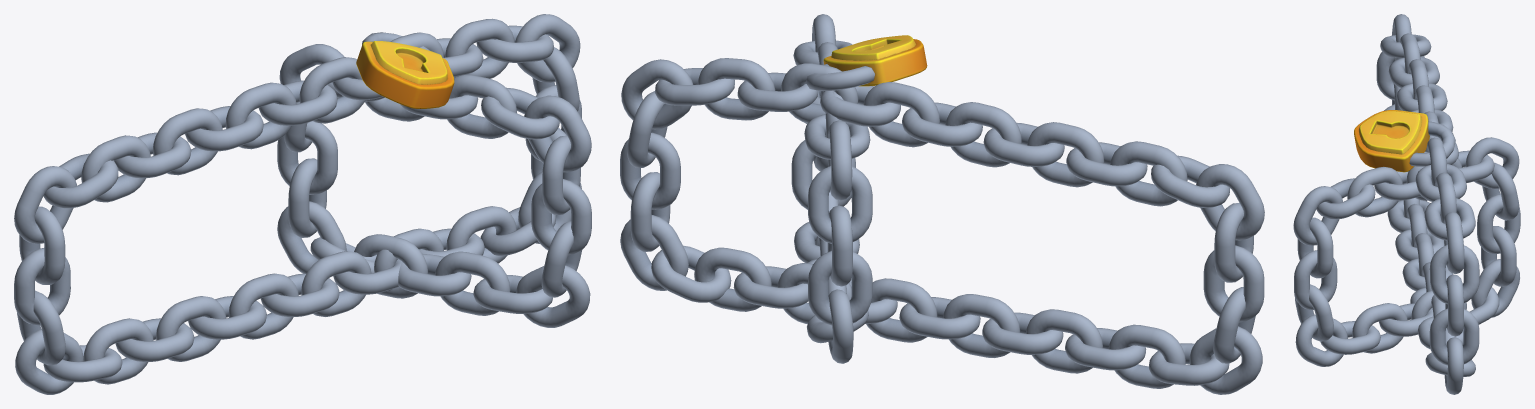
The model's file is Chain_Block_06.fbx.
The picture shows the model from 3 angles, left to right: view 1: azimuth 30°, elevation 25°; view 2: azimuth 150°, elevation 25°; view 3: azimuth 270°, elevation 25°; orthographic projection. The views are drawn at different scales.
Visible parts, largest first — view 1: Chain; view 2: Chain; view 3: Chain.
Boxes of the visible parts, x1,y1,x2,y2 form: Chain: [14, 14, 591, 394]; Chain: [620, 14, 1264, 394]; Chain: [1293, 14, 1520, 394].
Size of the model in its own units: 3.61 by 1.56 by 1.53.
Materials: 1 (1 with a texture image).
